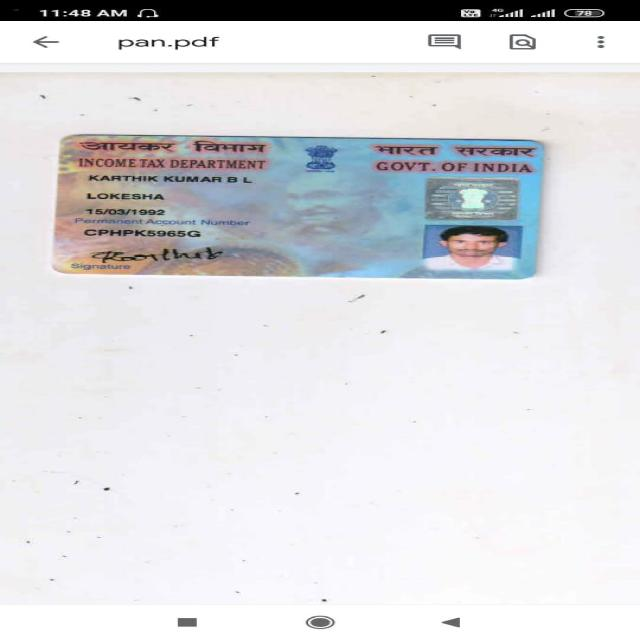pan_card: (53, 135, 543, 279)
